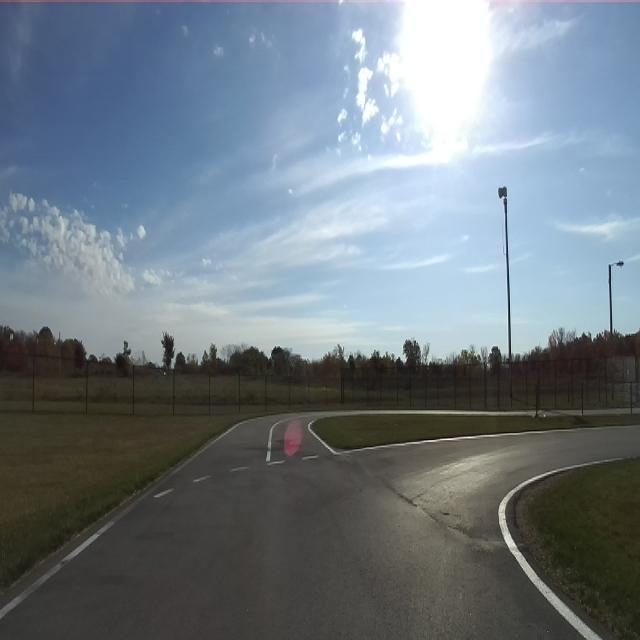white-line: (498, 458, 624, 639), (0, 481, 159, 620), (308, 420, 570, 453), (162, 420, 247, 478), (266, 420, 282, 462), (154, 488, 174, 497), (193, 475, 211, 481), (230, 466, 248, 471), (303, 455, 319, 459), (269, 460, 284, 464)
